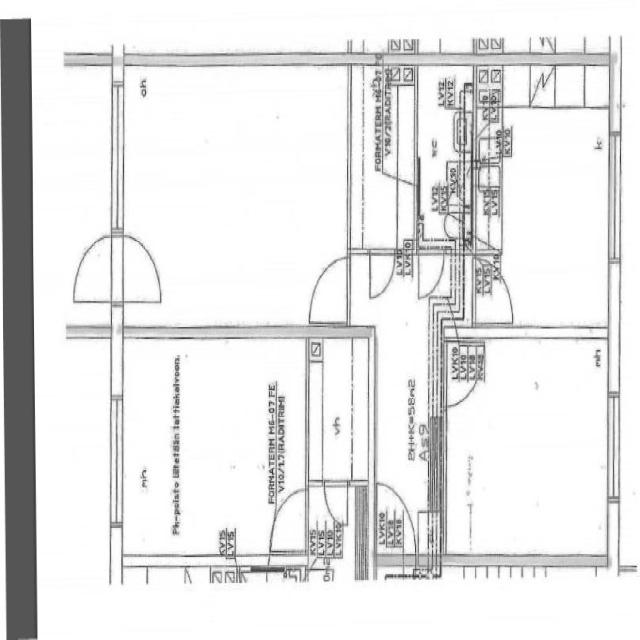door: (69, 228, 115, 314), (120, 228, 166, 312), (305, 250, 350, 328), (268, 484, 308, 554), (378, 480, 416, 553), (368, 246, 397, 304), (417, 247, 447, 301), (322, 480, 350, 526)
window: (102, 76, 130, 234), (106, 383, 128, 527), (603, 392, 624, 504), (428, 414, 446, 514)
zone: (123, 60, 345, 332), (122, 332, 309, 565), (473, 55, 615, 338), (443, 338, 611, 566), (348, 60, 416, 249), (305, 332, 372, 485), (415, 62, 470, 248), (268, 484, 308, 556), (446, 338, 484, 406)
